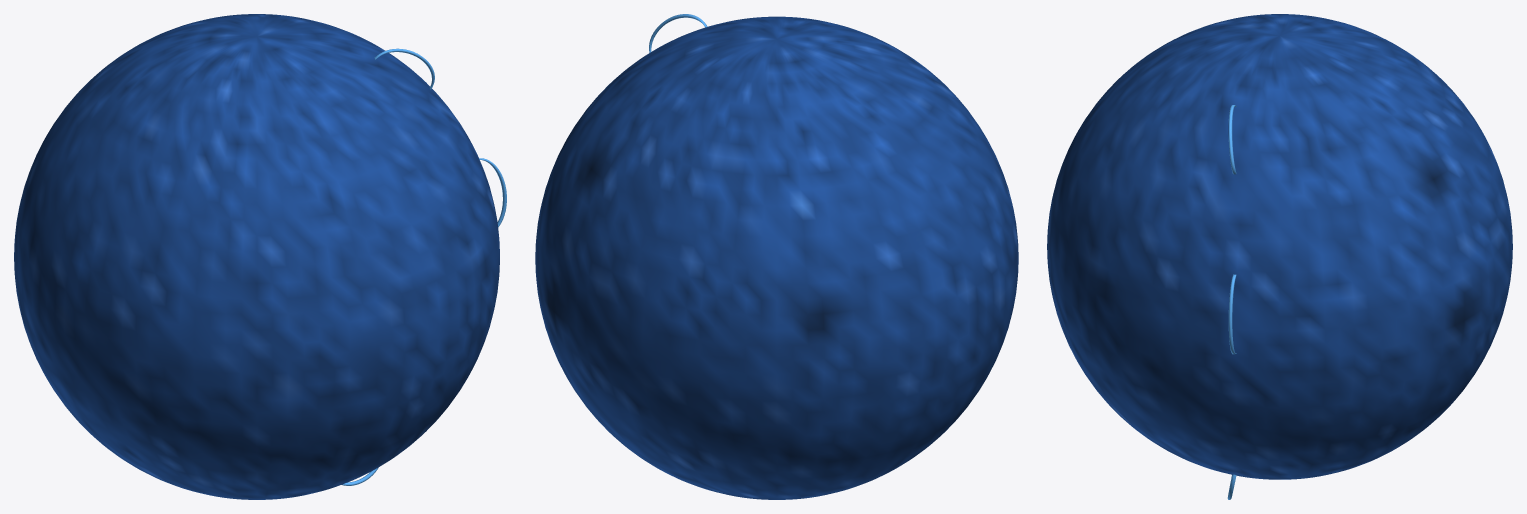
Rendered from Star_10.fbx.
3 views of the same model, side by side, from view 1: azimuth 30°, elevation 25°; view 2: azimuth 150°, elevation 25°; view 3: azimuth 270°, elevation 25° (orthographic). The views are drawn at different scales.
Parts seen in each view (by area): view 1: Star_10; view 2: Star_10; view 3: Star_10.
Boxes of the visible parts, x1,y1,x2,y2 form: Star_10: (14, 14, 506, 499); Star_10: (535, 14, 1018, 499); Star_10: (1047, 14, 1512, 499).
Bounding box in the file's own units: 206 × 203 × 200.
